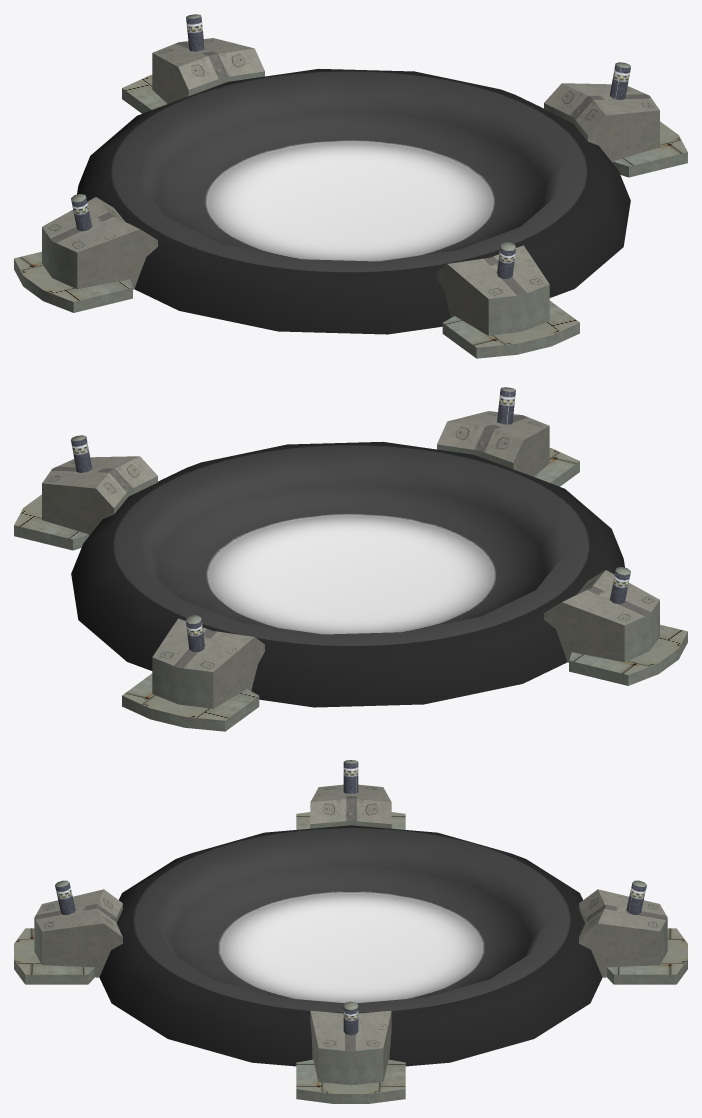
Rendered from Env_PowerUp_BaseForPowerUp.fbx.
The picture shows the model from 3 angles, top to bottom: view 1: azimuth 30°, elevation 25°; view 2: azimuth 150°, elevation 25°; view 3: azimuth 270°, elevation 25°; orthographic projection. The views are drawn at different scales.
Parts seen in each view (by area): view 1: polySurface5; view 2: polySurface5; view 3: polySurface5.
Boxes of the visible parts, x1=… form: polySurface5: x1=14, y1=14, x2=687, y2=358; polySurface5: x1=14, y1=387, x2=687, y2=731; polySurface5: x1=14, y1=760, x2=687, y2=1103.
Size of the model in its own units: 8.24 by 1.07 by 8.24.
